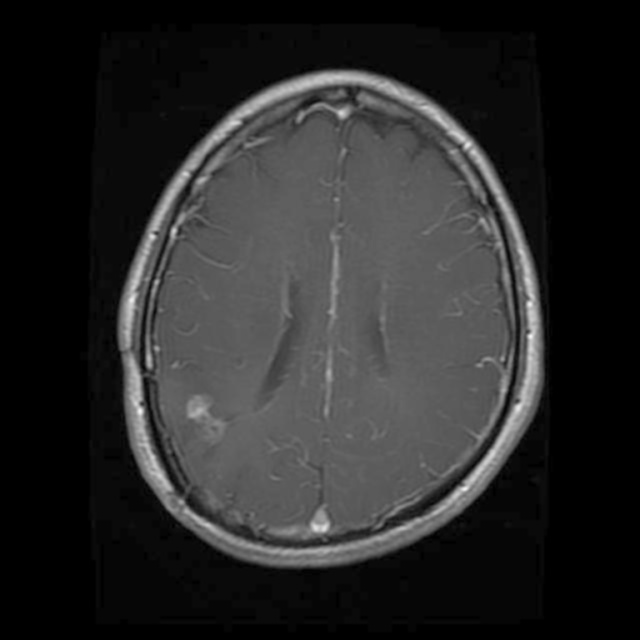pituitary tumor: (178, 394, 232, 448)
